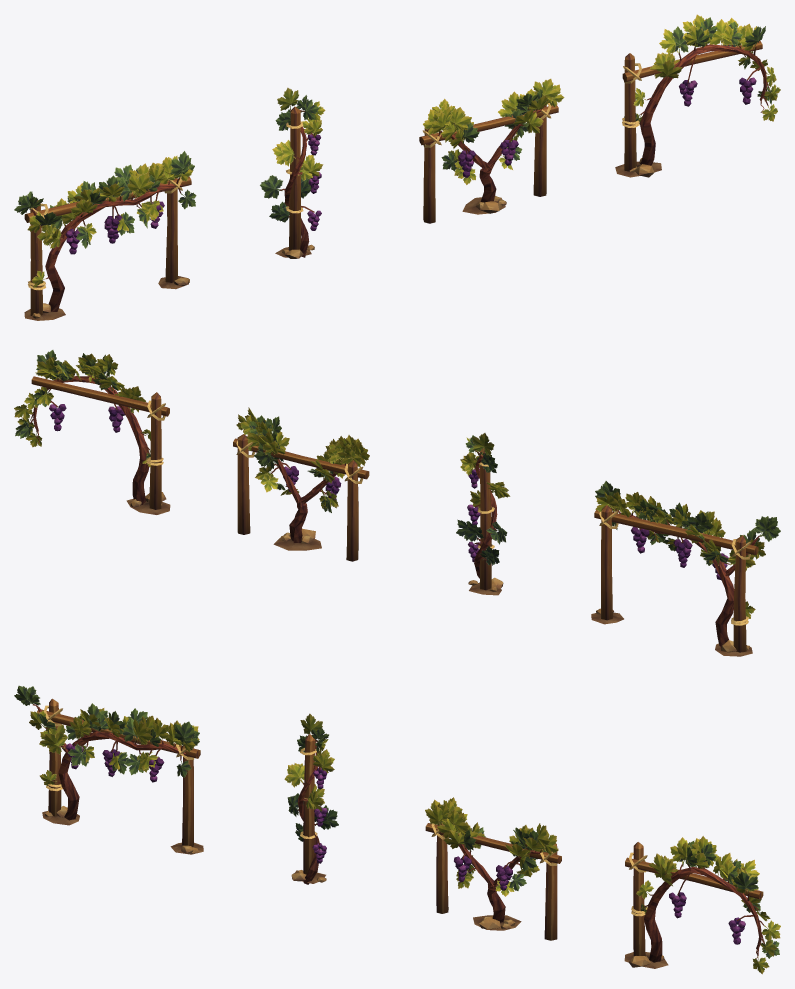
Rendered from parreiras_v2.glb.
The picture shows the model from 3 angles, top to bottom: view 1: azimuth 30°, elevation 25°; view 2: azimuth 150°, elevation 25°; view 3: azimuth 330°, elevation 25°; orthographic projection.
Parts seen in each view (by area): view 1: Parreira1_Pergola, Parreira4_Braco, Parreira3_PergolaCurta, Parreira2_Poste; view 2: Parreira1_Pergola, Parreira3_PergolaCurta, Parreira4_Braco, Parreira2_Poste; view 3: Parreira1_Pergola, Parreira4_Braco, Parreira3_PergolaCurta, Parreira2_Poste.
Boxes of the visible parts, x1,y1,x2,y2 form: Parreira1_Pergola: [14, 151, 196, 320]; Parreira4_Braco: [615, 14, 780, 177]; Parreira3_PergolaCurta: [419, 78, 564, 223]; Parreira2_Poste: [260, 87, 325, 258]; Parreira1_Pergola: [591, 481, 780, 656]; Parreira3_PergolaCurta: [233, 407, 369, 561]; Parreira4_Braco: [14, 350, 170, 514]; Parreira2_Poste: [456, 433, 510, 595]; Parreira1_Pergola: [14, 685, 203, 854]; Parreira4_Braco: [624, 836, 780, 974]; Parreira3_PergolaCurta: [425, 797, 561, 940]; Parreira2_Poste: [284, 713, 338, 884].
Size of the model in its own units: 16.14 by 3.33 by 1.04.
Materials: 2 (2 with a texture image).
